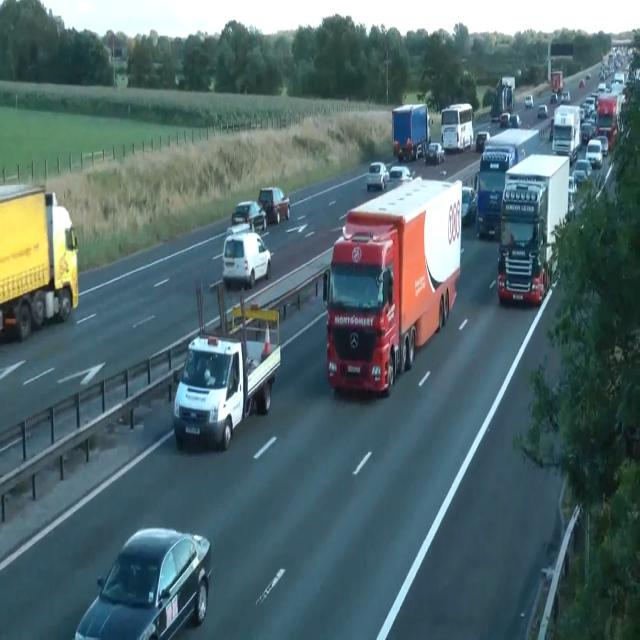bus: (74, 526, 212, 639), (366, 161, 390, 191), (461, 185, 477, 225), (572, 158, 592, 187), (388, 164, 414, 182), (226, 220, 252, 237), (424, 142, 444, 164), (567, 175, 577, 219), (476, 131, 490, 152), (596, 134, 608, 156), (580, 121, 593, 141), (509, 113, 521, 128), (499, 112, 510, 127), (524, 94, 534, 108), (538, 104, 548, 117), (614, 72, 624, 84), (416, 143, 424, 158), (549, 118, 554, 142), (561, 90, 570, 101), (550, 92, 558, 103), (579, 78, 585, 89), (585, 73, 591, 79)
jeep: (221, 230, 271, 289), (258, 186, 290, 224), (231, 199, 267, 232)
minibus: (322, 176, 462, 397), (173, 302, 281, 451), (0, 182, 79, 342), (497, 153, 569, 305), (475, 126, 541, 239), (392, 103, 432, 162), (552, 104, 582, 164), (441, 102, 474, 152), (547, 40, 573, 94), (594, 93, 618, 151), (491, 76, 515, 121), (551, 70, 563, 94)
